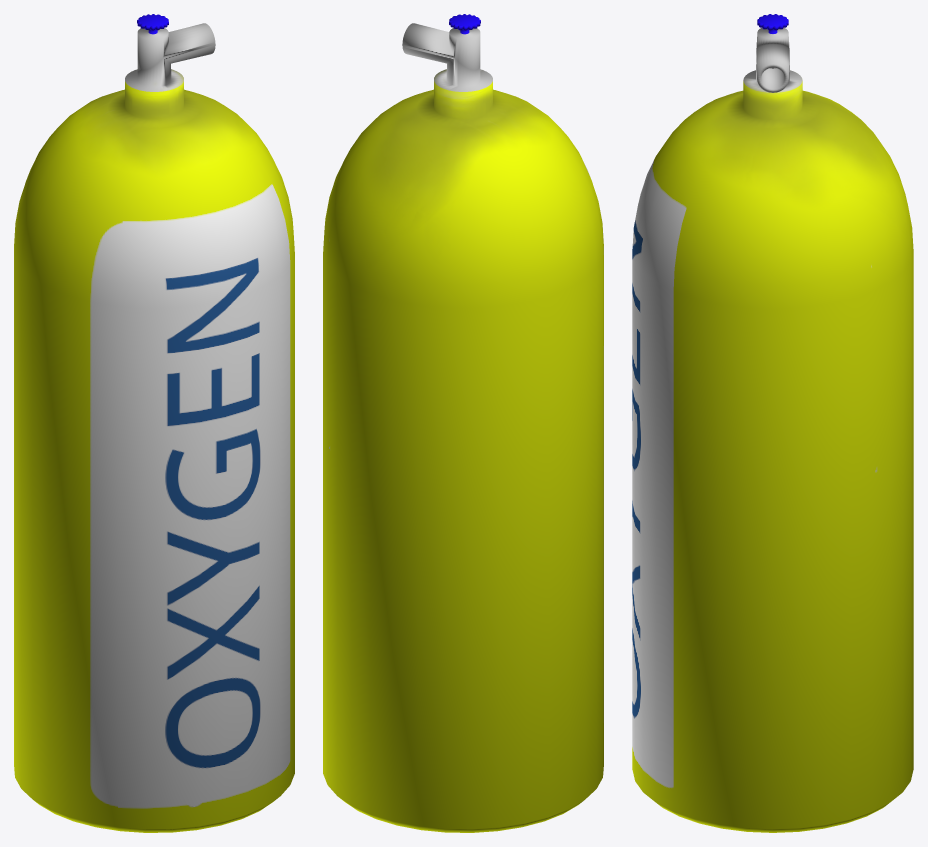
Rendered from oxijen.glb.
3 renders of one model, left to right at view 1: azimuth 30°, elevation 25°; view 2: azimuth 150°, elevation 25°; view 3: azimuth 270°, elevation 25°, orthographic.
Parts seen in each view (by area): view 1: Cylinder.001; view 2: Cylinder.001; view 3: Cylinder.001.
Boxes of the visible parts, x1,y1,x2,y2 form: Cylinder.001: [14, 14, 294, 832]; Cylinder.001: [323, 14, 603, 832]; Cylinder.001: [632, 14, 913, 832].
Size of the model in its own units: 0.5179 by 1.54 by 0.5179.
1 material, 1 textured.
